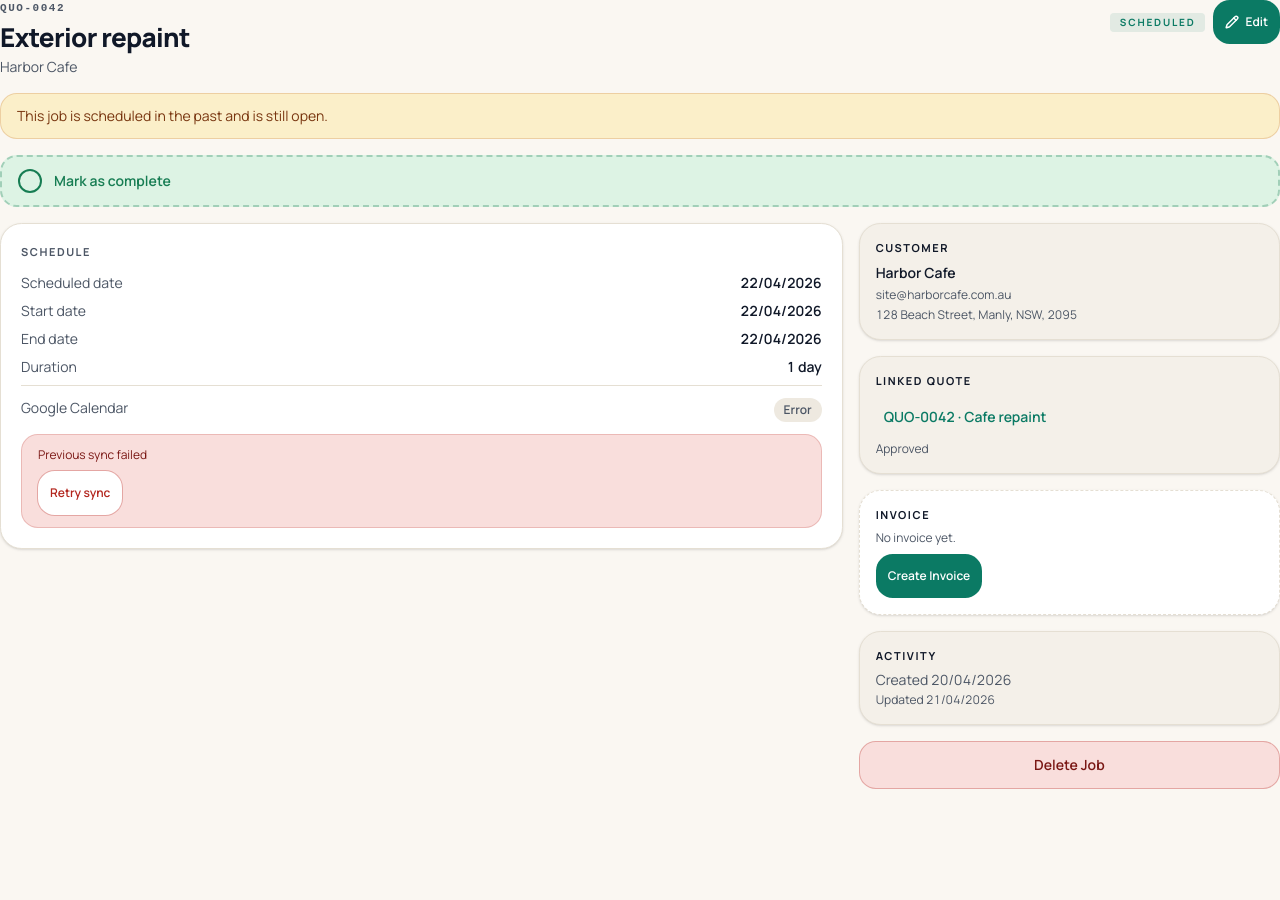
Test: jobs action rejection handling › keeps returned action errors on their existing UI paths
This screenshot has width=1280, height=900.
Click the button "Delete Job" at [1069, 765], box [859, 741, 1279, 789]
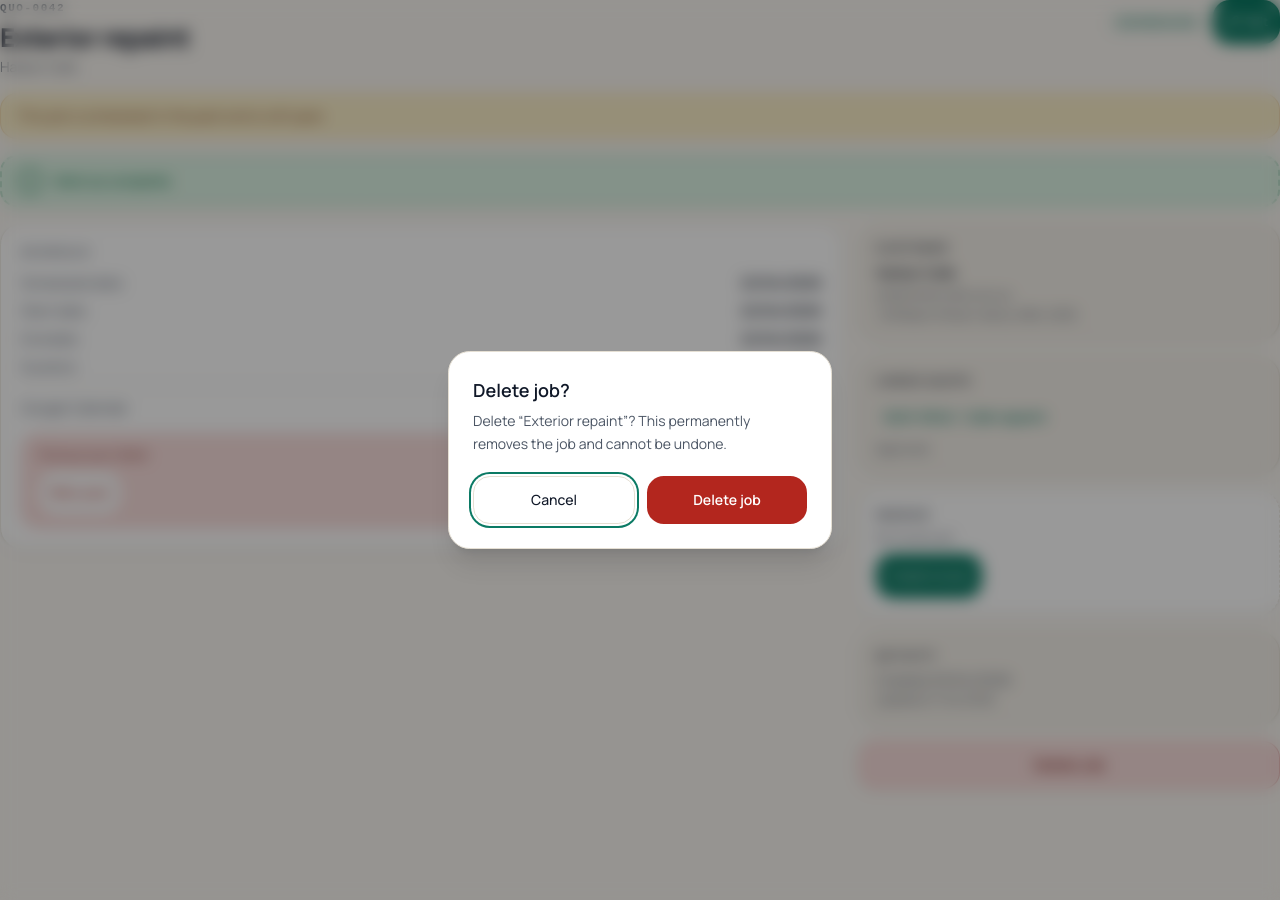
Click the button "Delete job" at [727, 500], box [647, 476, 807, 524]
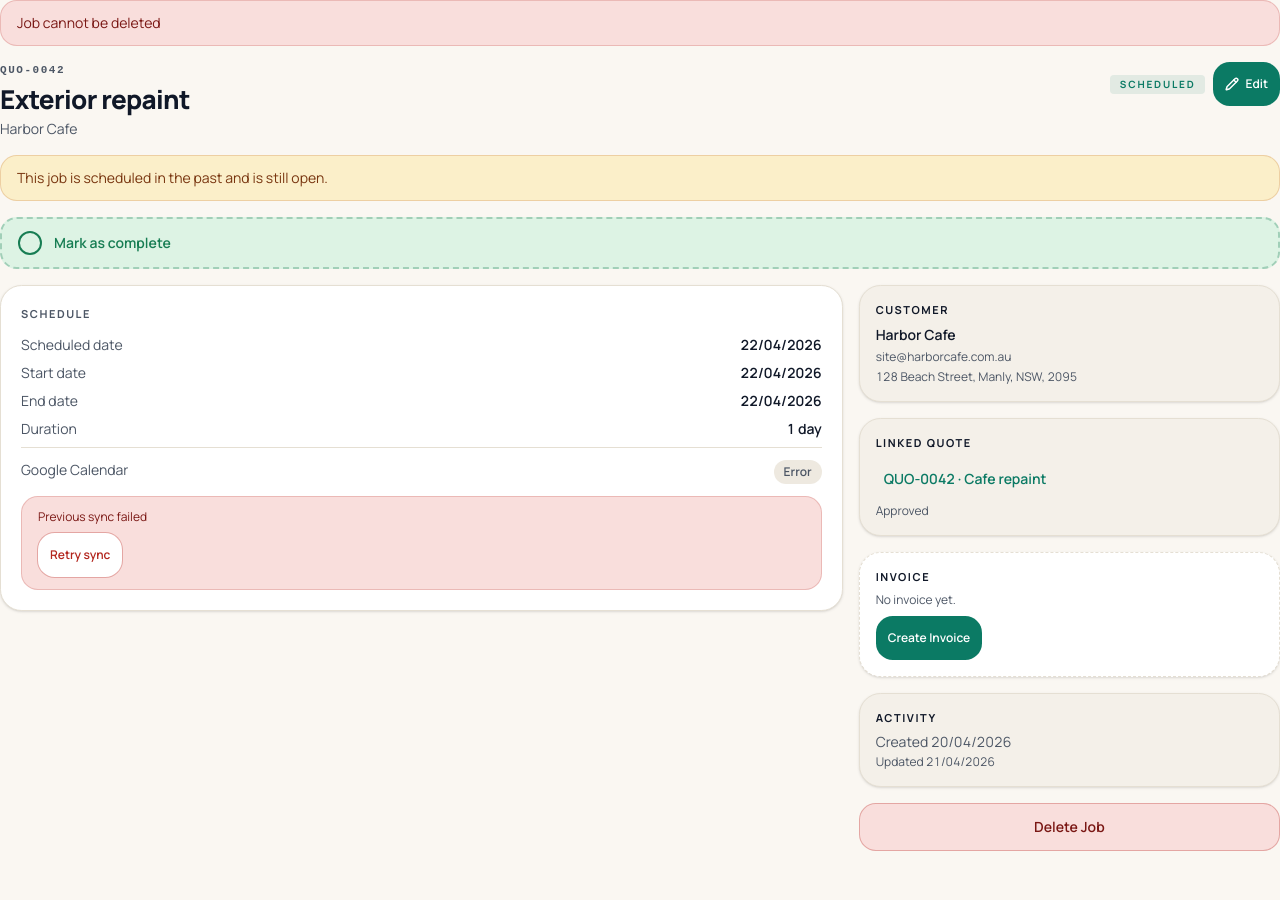
Expected: the text "Job cannot be deleted" is shown, [0, 0, 1279, 46]
